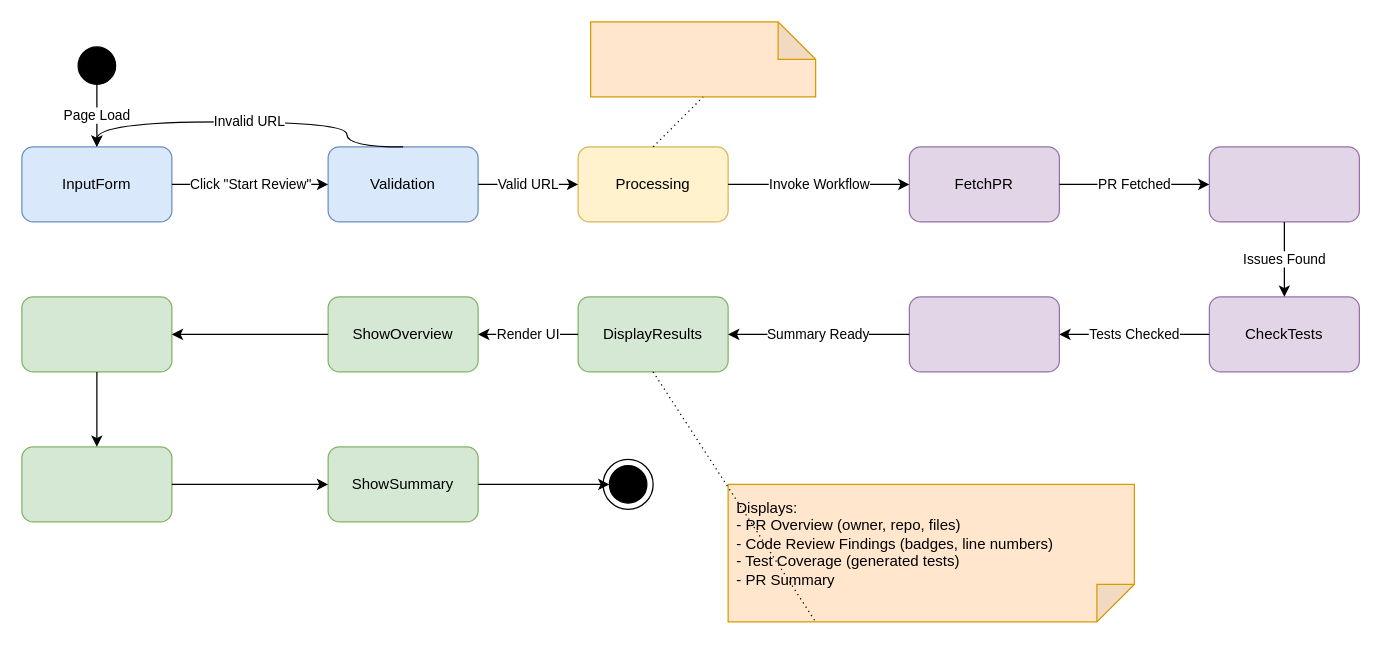
The diagram is 1381 pixels wide and 645 high, and some of its shapes have lost their labels. The shapes that lost their labels are listed below. From the top down, each one's centre as x and y in pixels, then its label:
point 702,59: Shows spinner: "Fetching PR and analyzing..."
point 1283,184: ReviewCode
point 96,334: ShowFindings
point 983,334: Summarize
point 96,484: ShowCoverage
